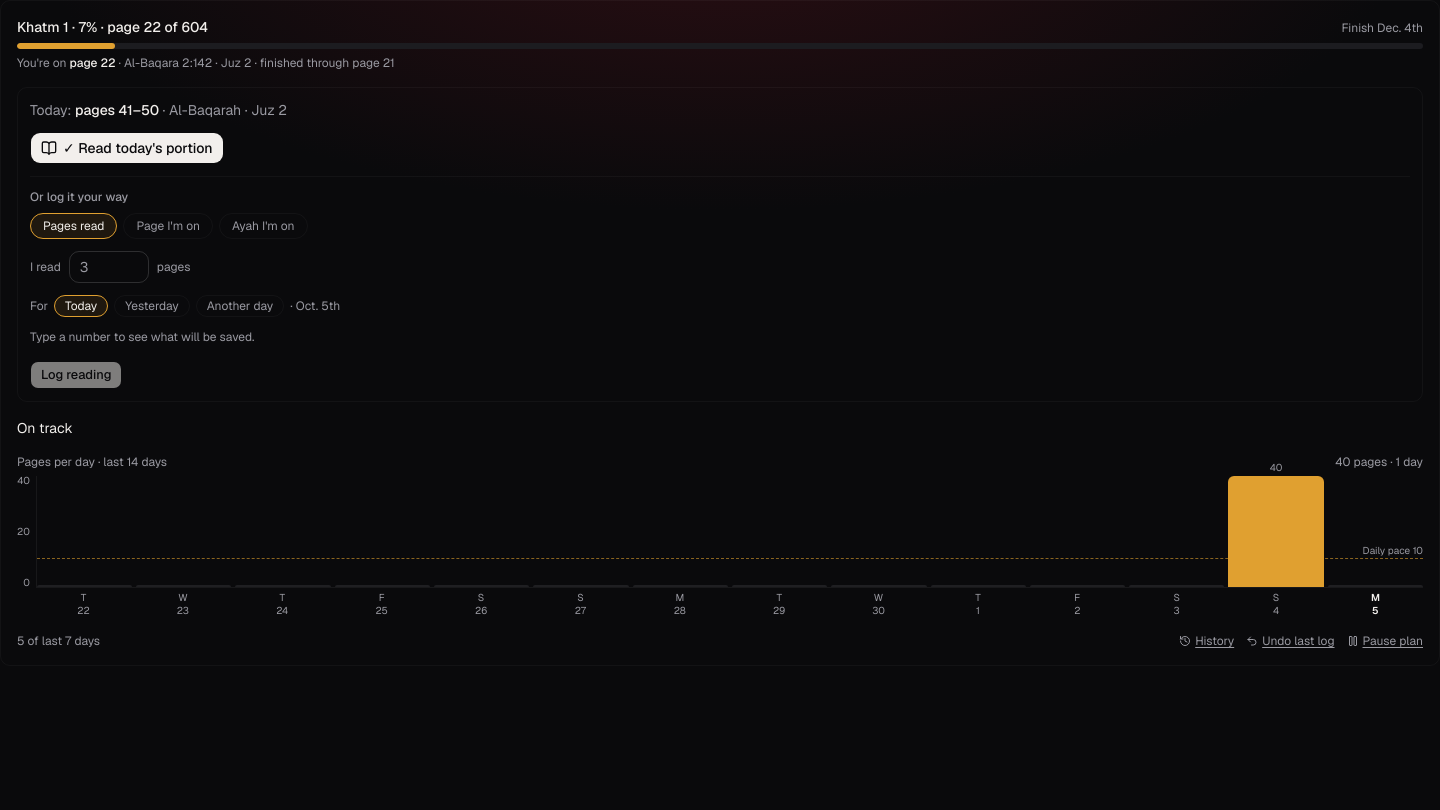
Test: QuranPlanCard (QURAN-02) › log your way: the exact ayah is previewed with its surah and sent as a global ayah number
The image size is (1440, 810).
Click the tab with test id "quran-mode-onAyah" at point(263, 226), box x1=219 y1=213 x2=308 y2=239
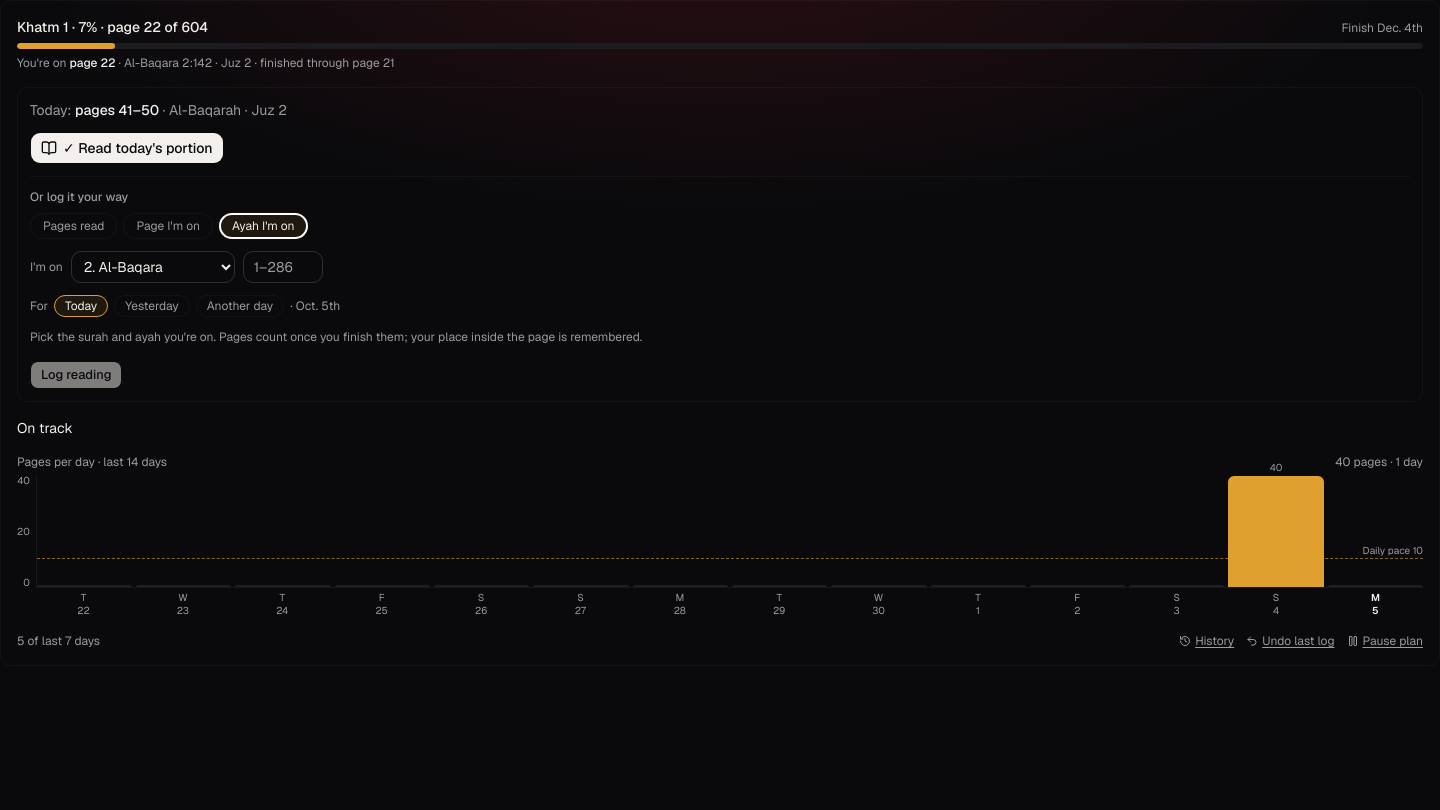
Select "2. Al-Baqara" in the dropdown with test id "quran-surah" at point(153, 267), box x1=71 y1=251 x2=235 y2=283
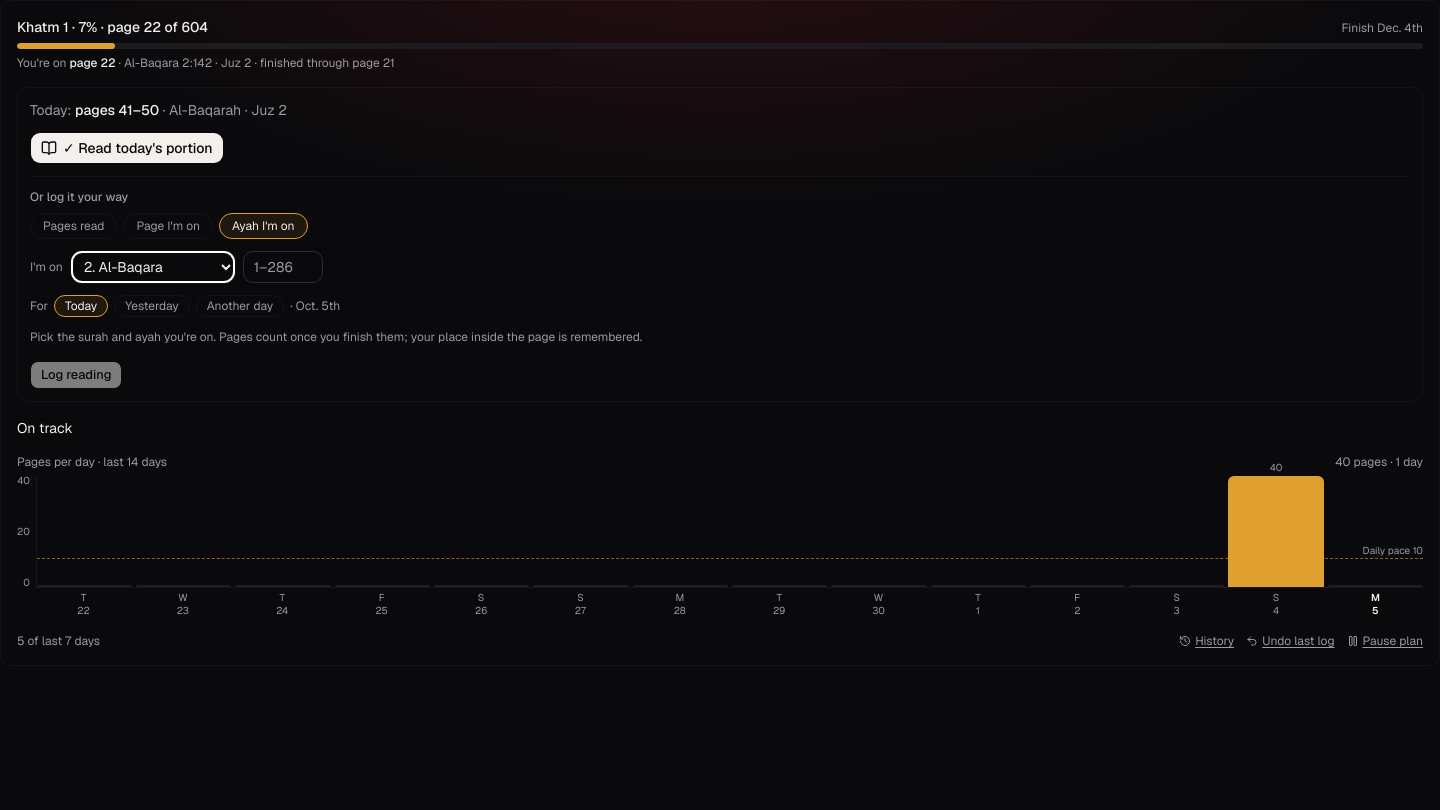
Type "145" into the number field named "Ayah number" at point(283, 267), box x1=243 y1=251 x2=323 y2=283
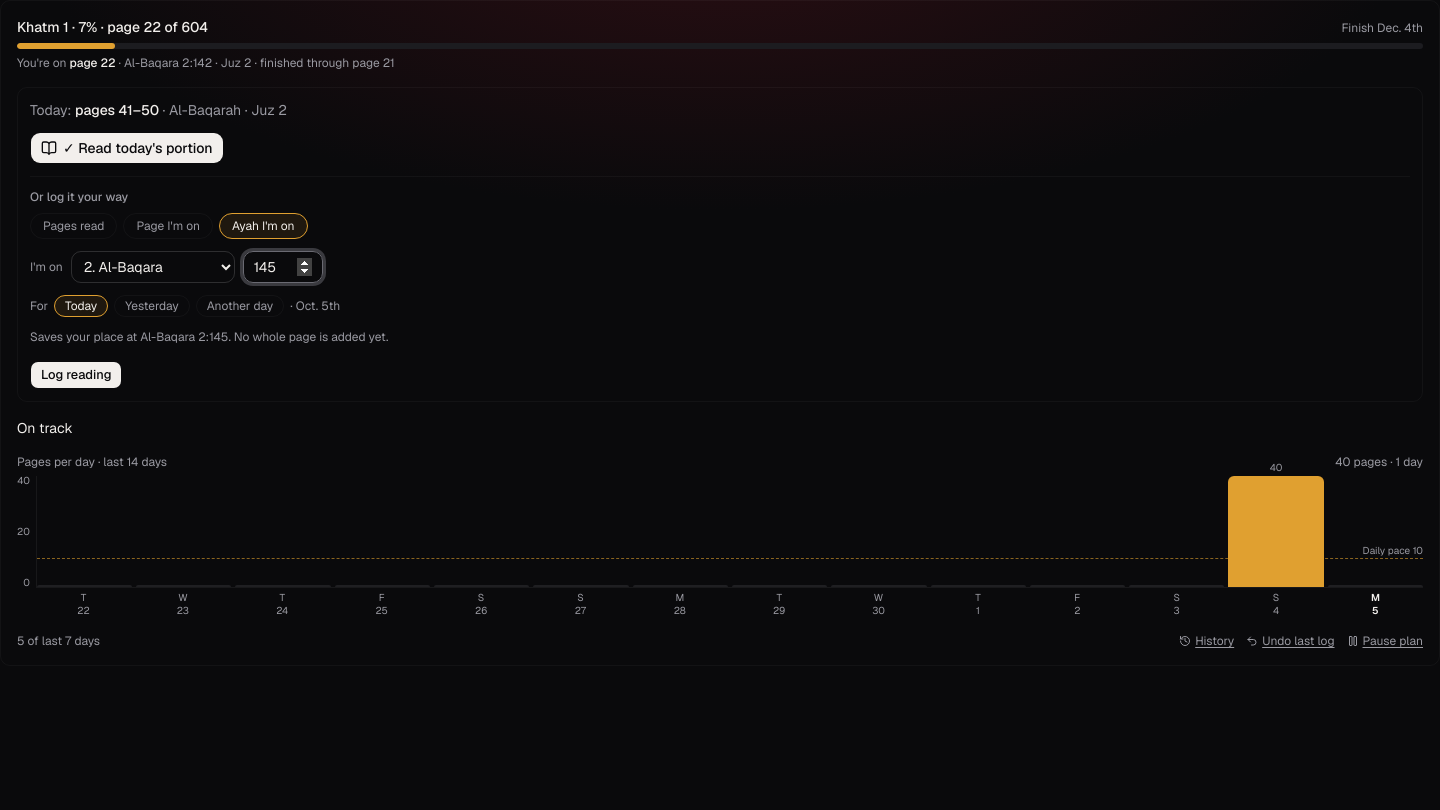
Expected: the message with test id "quran-log-preview" shows "Saves your place at Al-Baqara 2:145", x1=30 y1=329 x2=388 y2=345
Click the button with test id "quran-log-submit" at point(76, 375), box x1=30 y1=361 x2=122 y2=389
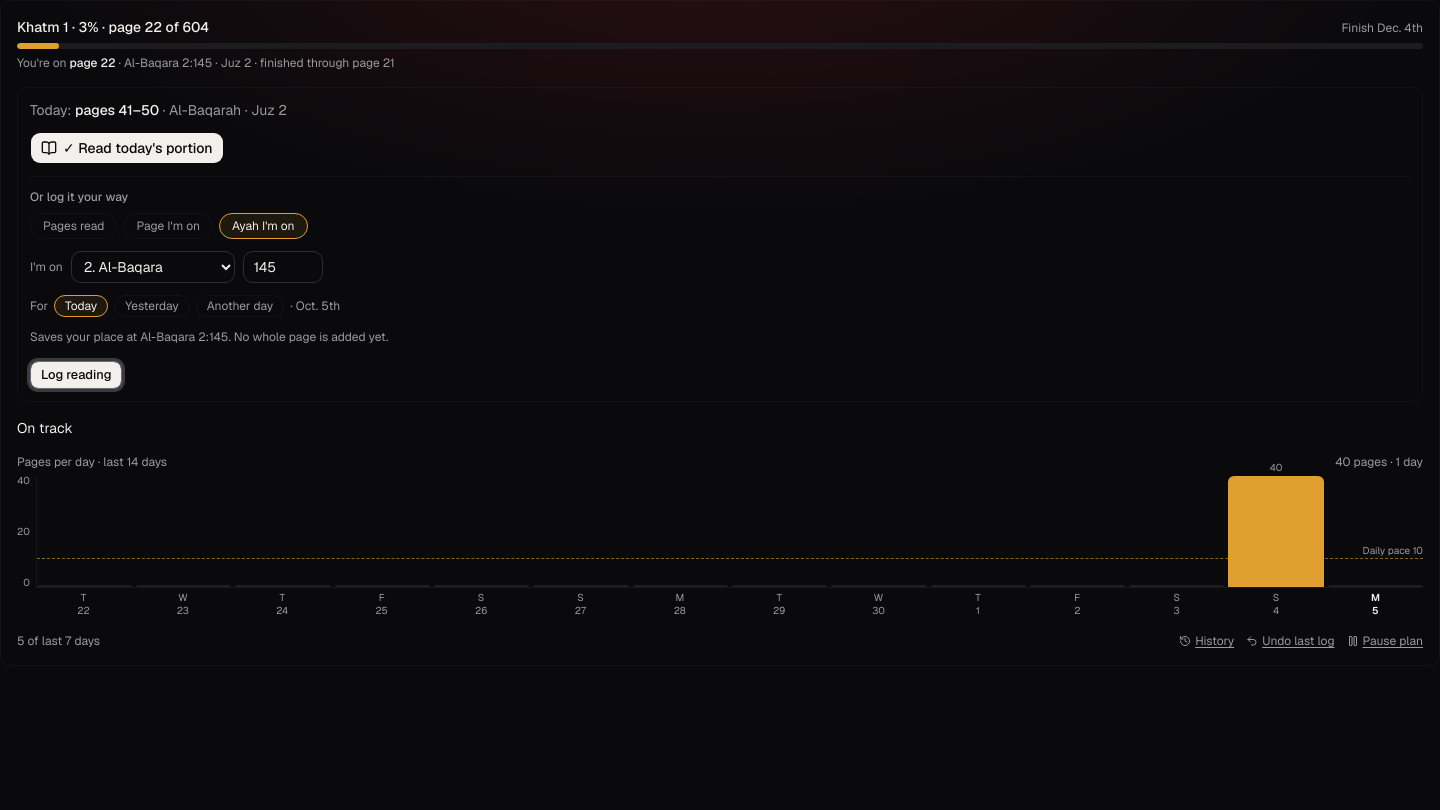
Expected: the element with test id "quran-position" shows "Al-Baqara 2:145", x1=124 y1=55 x2=212 y2=71
